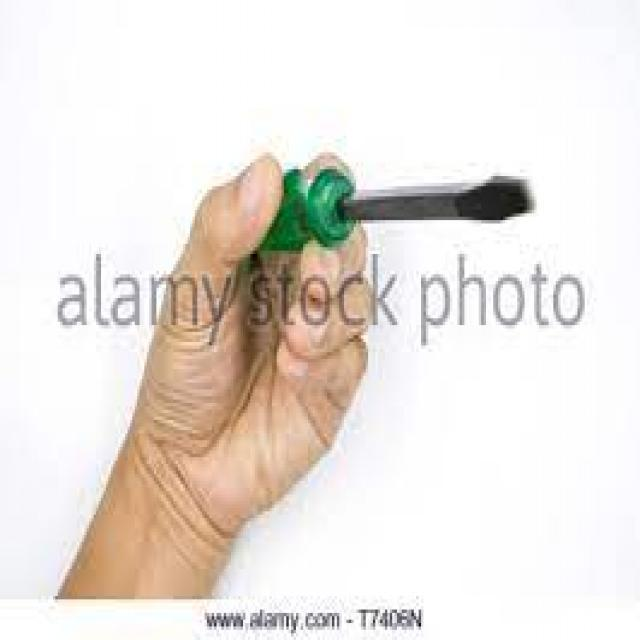screwdriver: (238, 157, 542, 266)
